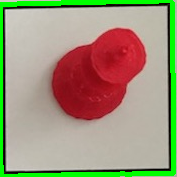Red King: (50, 23, 149, 128)
